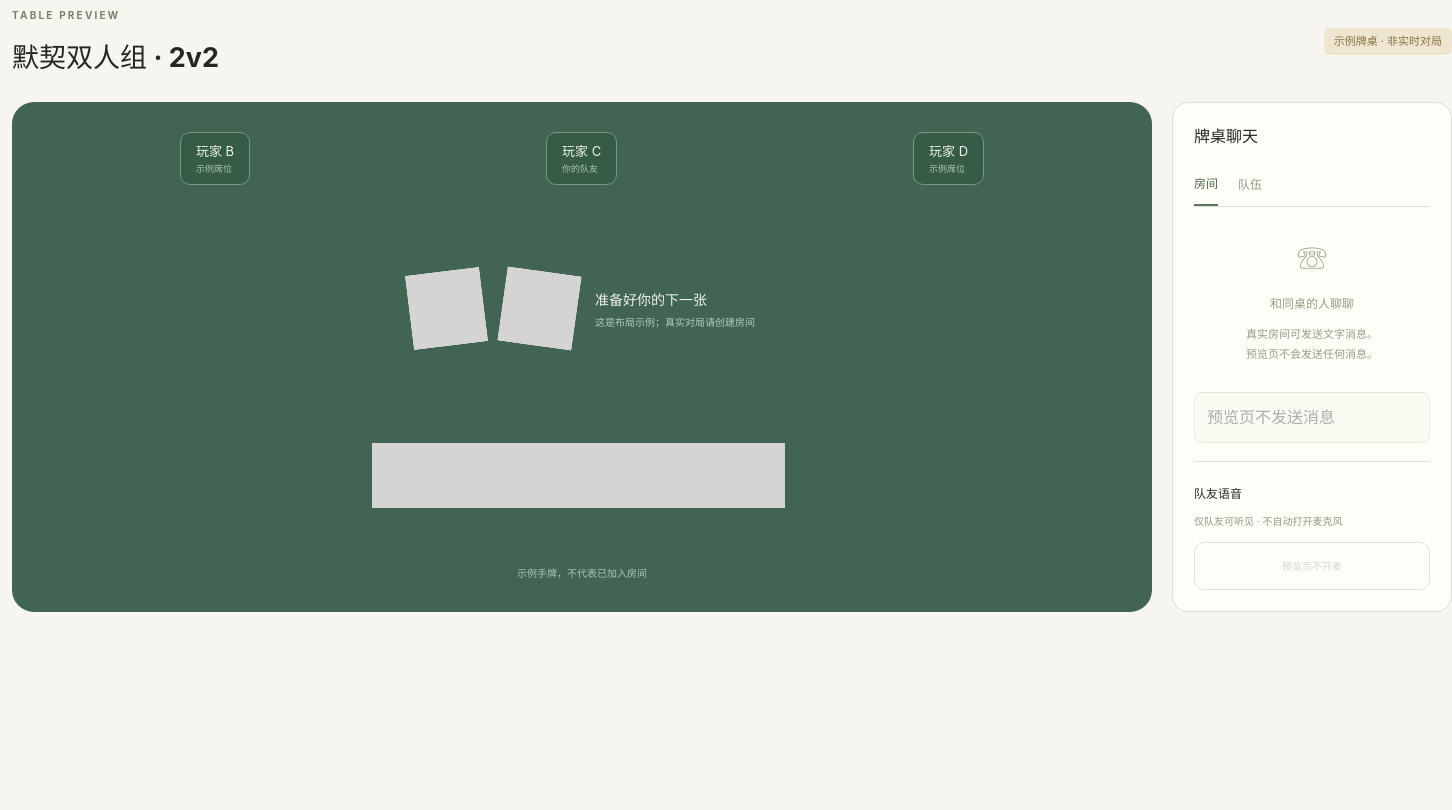
it: scaffold lobby › shows a team channel but does not activate the microphone
Click the button "队伍" at [1250, 185], box [1238,164,1262,206]
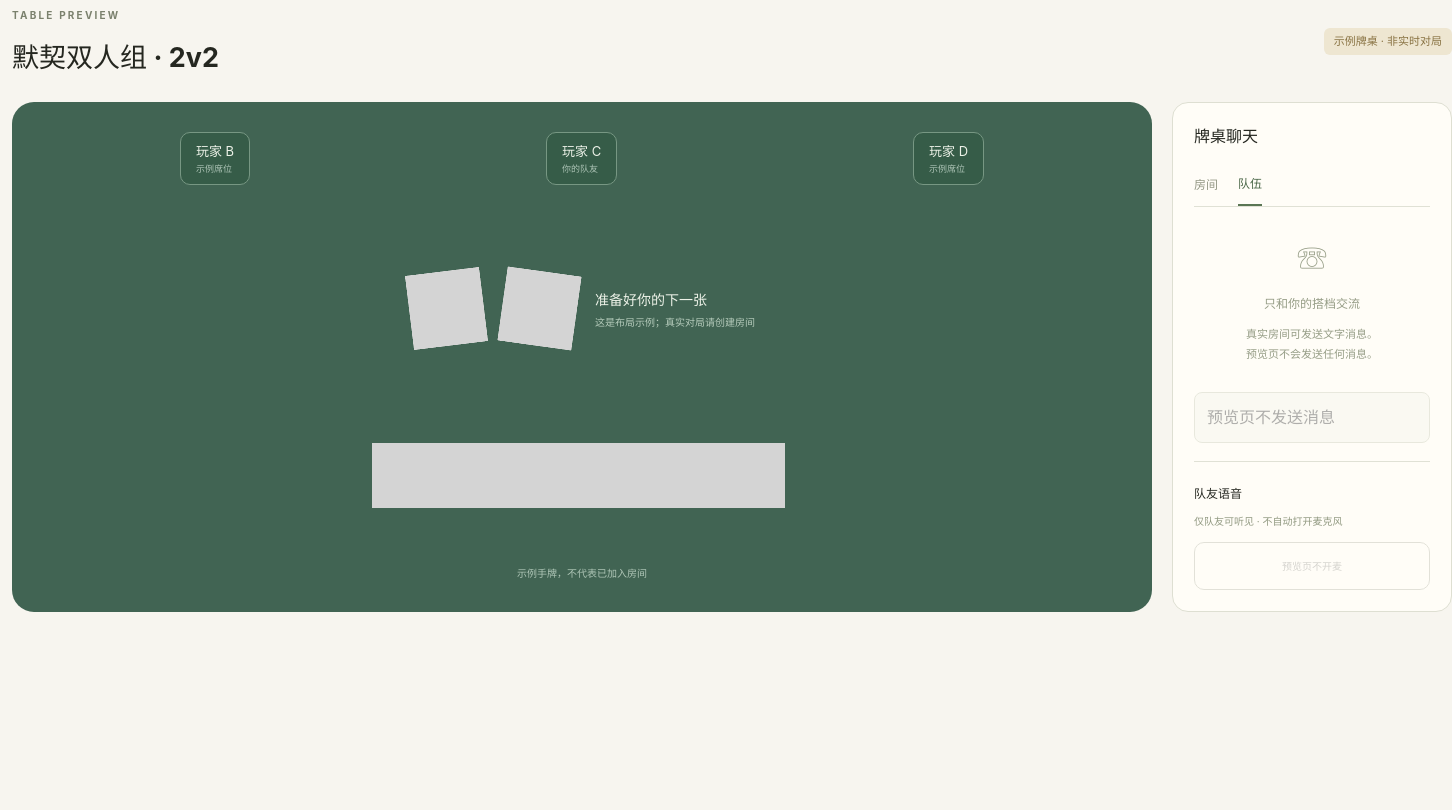
Expected: the button "预览页不开麦" is disabled, [1194,542,1430,590]
Expected: the text "只和你的搭档交流" is shown, [1264,294,1360,313]
